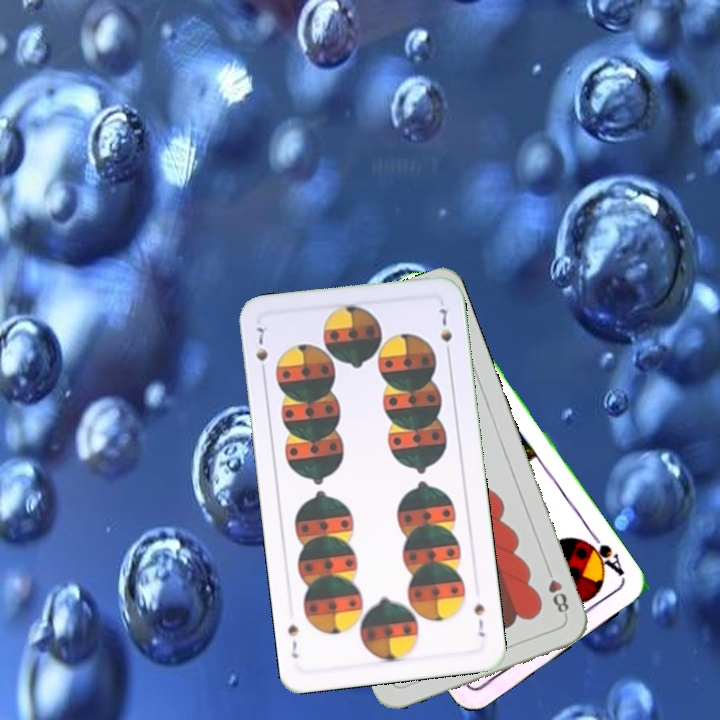H8: (542, 562, 572, 619)
S7: (251, 323, 271, 379), (470, 599, 488, 640)
SA: (578, 528, 627, 579)
